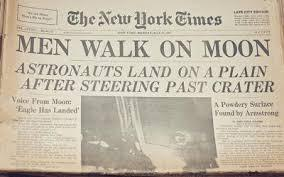Printing industry: (2, 2, 284, 177)
